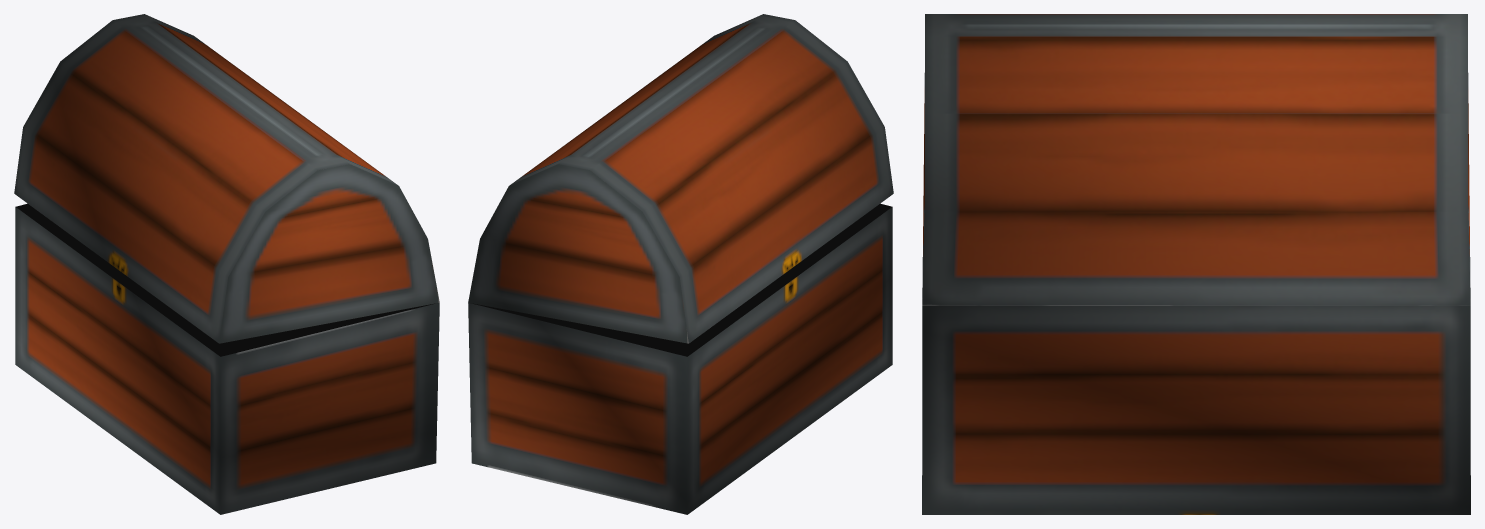
Rendered from cofrenormal_000002.obj.
3 views of the same model, side by side, from view 1: azimuth 30°, elevation 25°; view 2: azimuth 150°, elevation 25°; view 3: azimuth 270°, elevation 25° (orthographic). The views are drawn at different scales.
Visible parts, largest first — view 1: cofre; view 2: cofre; view 3: cofre.
Part boxes in pixels (<box>): cofre: <box>14,14,439,514</box>; cofre: <box>468,14,893,514</box>; cofre: <box>922,14,1470,514</box>.
Bounding box in the file's own units: 3.88 × 5.42 × 6.34.
